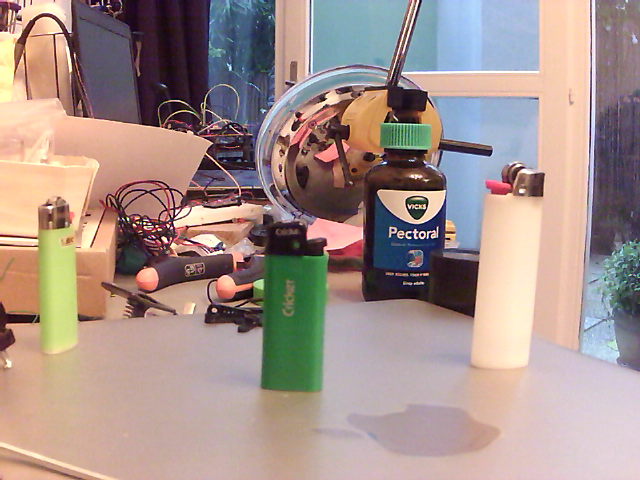lighter: (465, 162, 549, 376), (257, 220, 330, 398), (33, 196, 79, 354)
